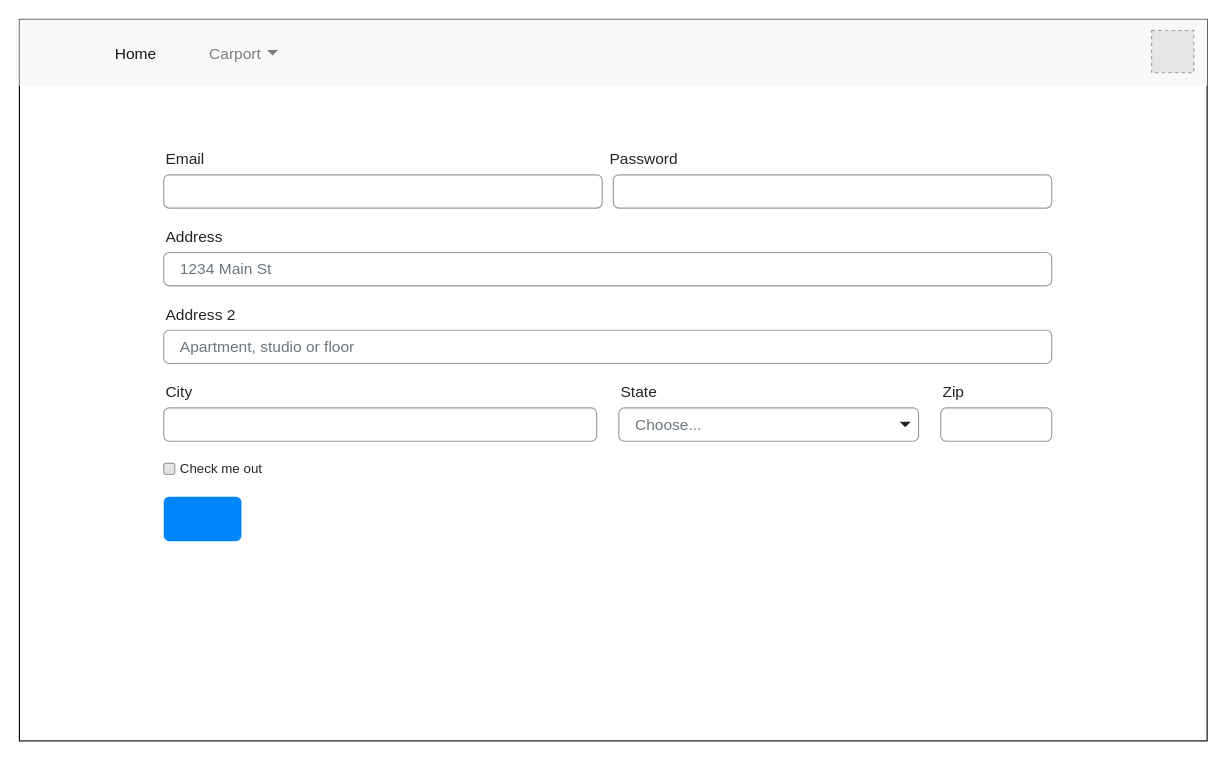
This 1227x760 diagram has some shape labels left out. Grey dashed boxes stand in for pictures. The box of each missing label's shape, as (x1, y1, x2, y2) in pixels:
Fog: (19, 19, 1207, 85)
Register: (163, 496, 241, 541)
